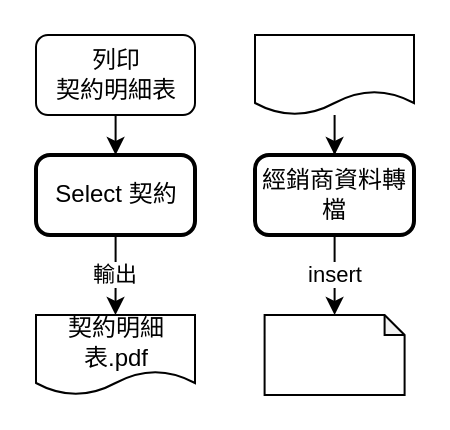
This 450x430 diagram has some shape labels left out. The shapes that lost their labels are listed below. From the top down, each one's centre as x and y in pixels, then its label:
point (333, 74): 客戶檔 tx15.txt
point (334, 354): jwt15 客戶資料
